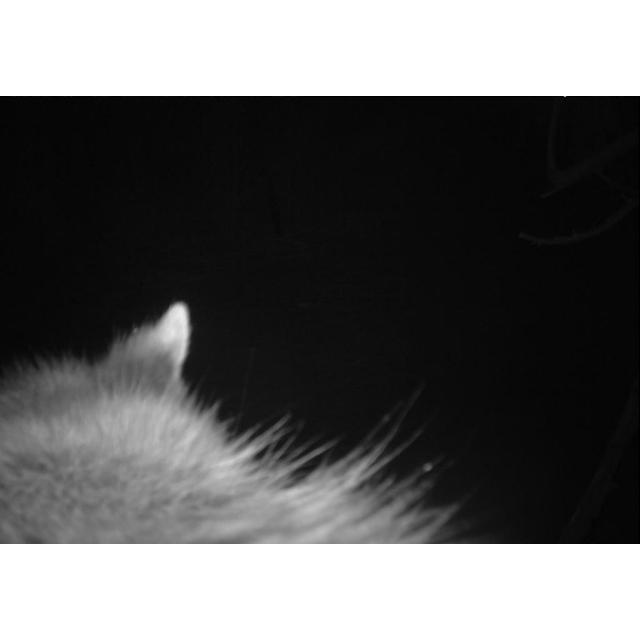animals: (0, 300, 474, 544)
